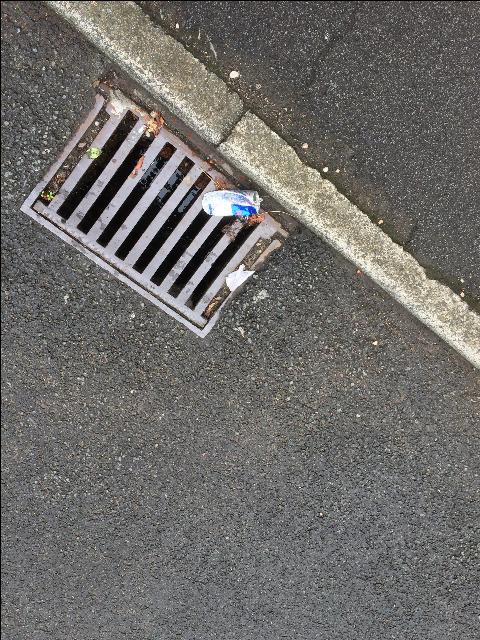metal: (201, 188, 260, 216)
